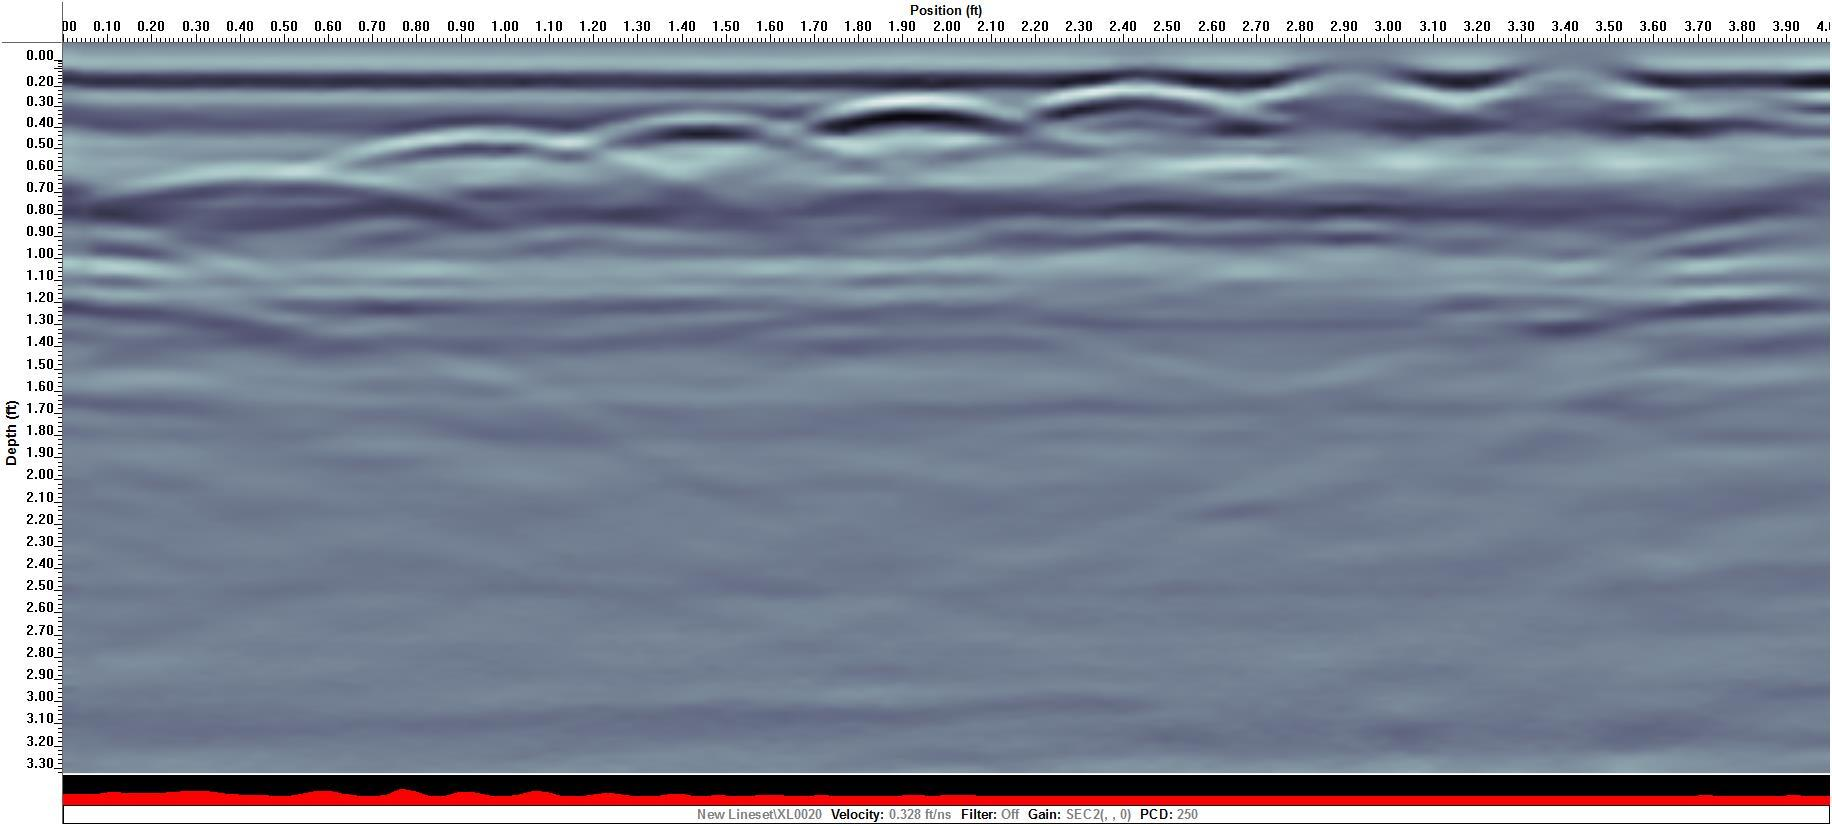hyperbola: (104, 147, 454, 238), (311, 111, 641, 193), (555, 97, 862, 176), (786, 83, 1076, 167), (1007, 67, 1293, 147)
